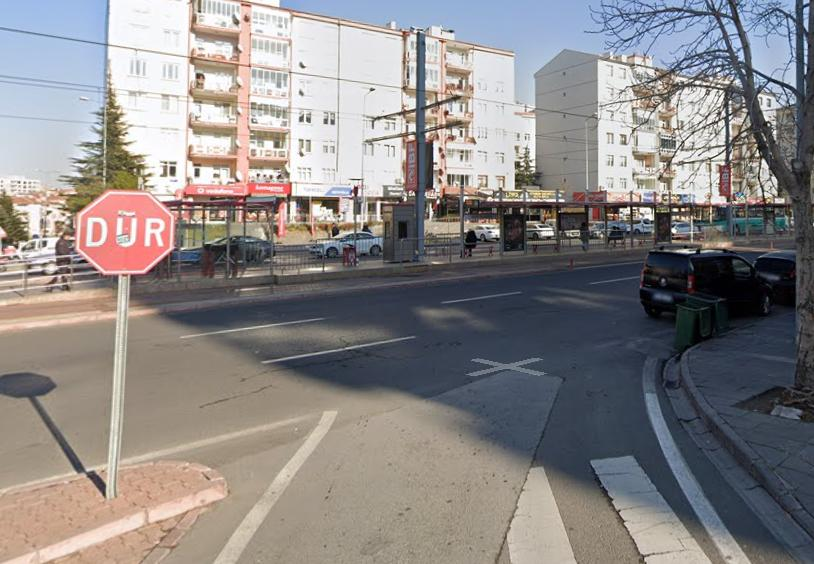stop: (79, 191, 176, 278)
